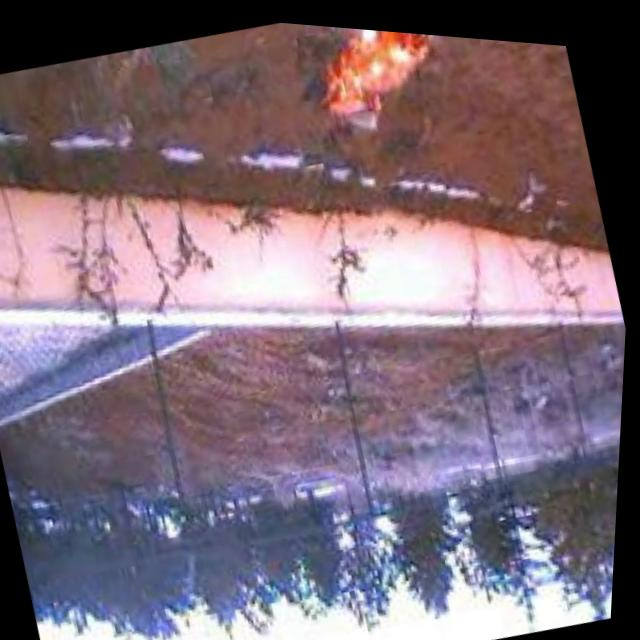Fire: (308, 20, 464, 118)
